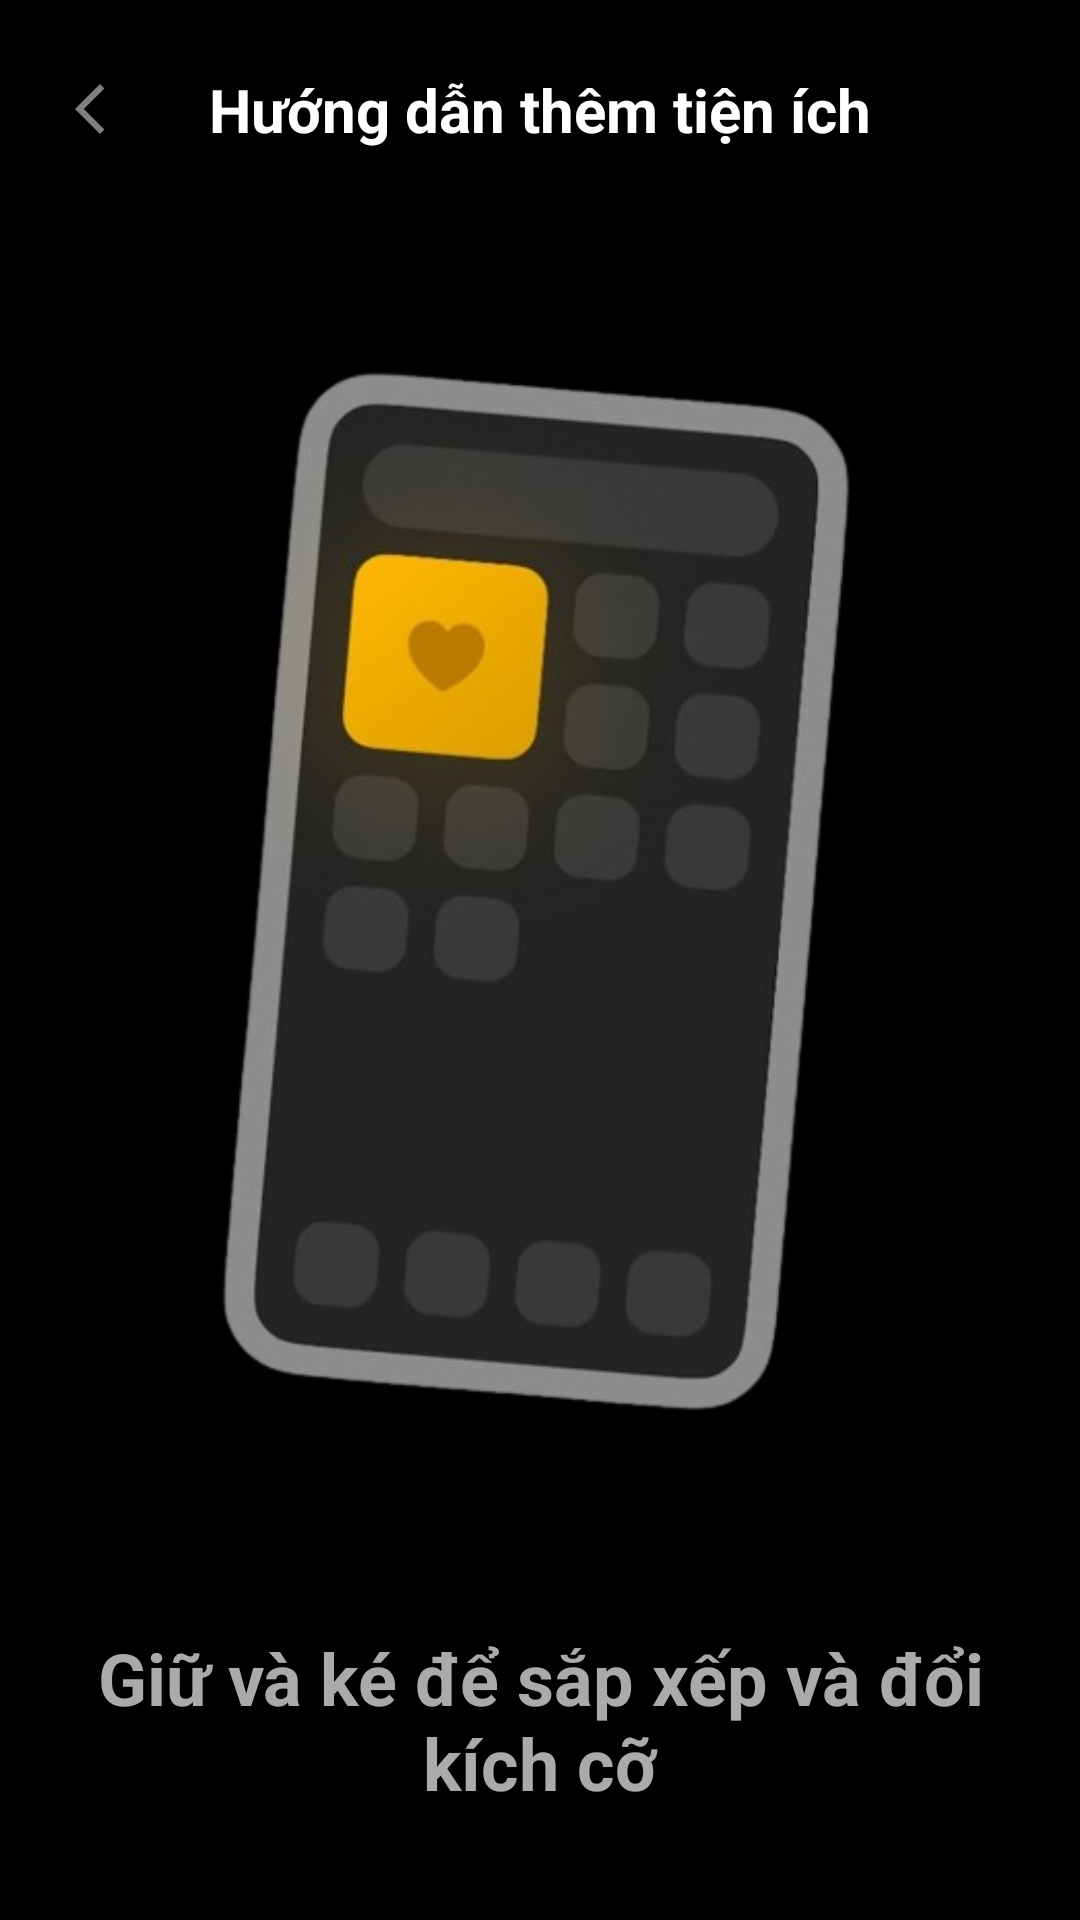

Point at icon controls on the screen. Image size 1080*1920, points as (x=x, y=y).
back: (x=89, y=109)
